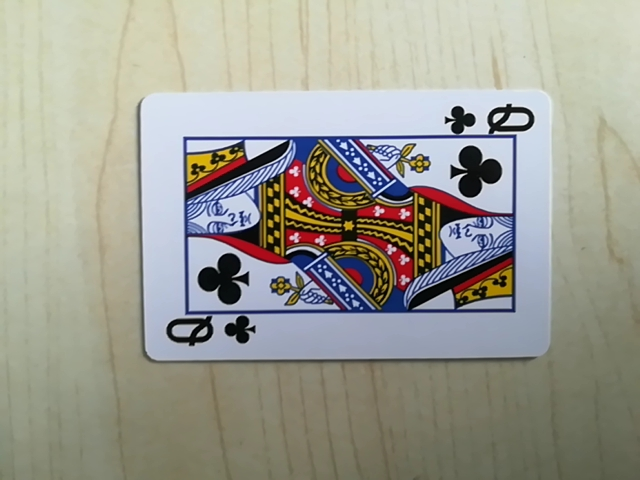mh q: (159, 309, 257, 358), (446, 97, 539, 138)
